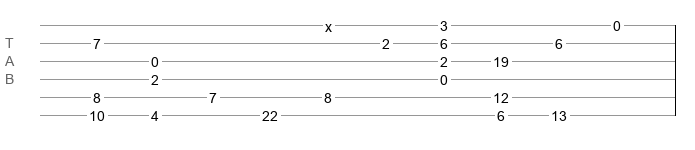0: (151, 54, 159, 64), (440, 72, 448, 82), (613, 18, 621, 28)
10: (89, 108, 105, 118)
12: (493, 90, 509, 100)
13: (551, 108, 567, 118)
19: (493, 54, 509, 64)
2: (151, 72, 159, 82), (382, 36, 390, 46), (440, 54, 448, 64)
22: (262, 108, 278, 118)
3: (440, 18, 448, 28)
4: (151, 108, 159, 118)
6: (440, 36, 448, 46), (497, 108, 505, 118), (555, 36, 563, 46)
7: (93, 36, 101, 46), (209, 90, 217, 100)
8: (93, 90, 101, 100), (324, 90, 332, 100)
x: (325, 19, 332, 27)
